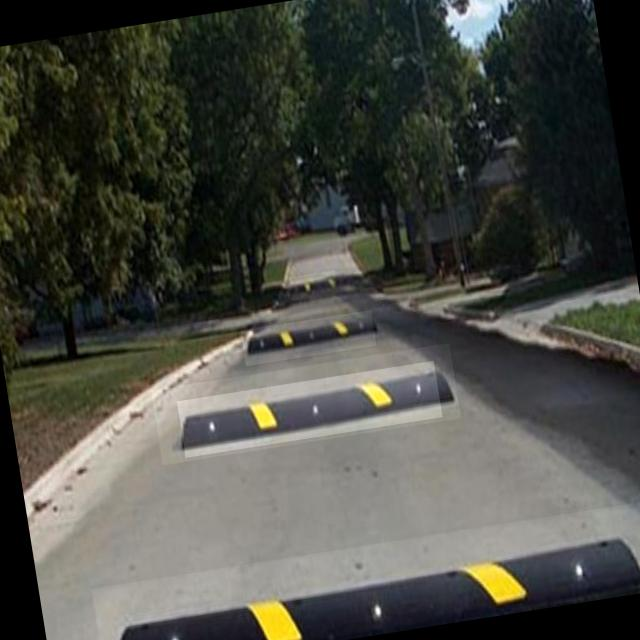bump: (93, 508, 634, 640), (177, 360, 443, 458), (240, 310, 376, 366), (289, 270, 338, 301)
